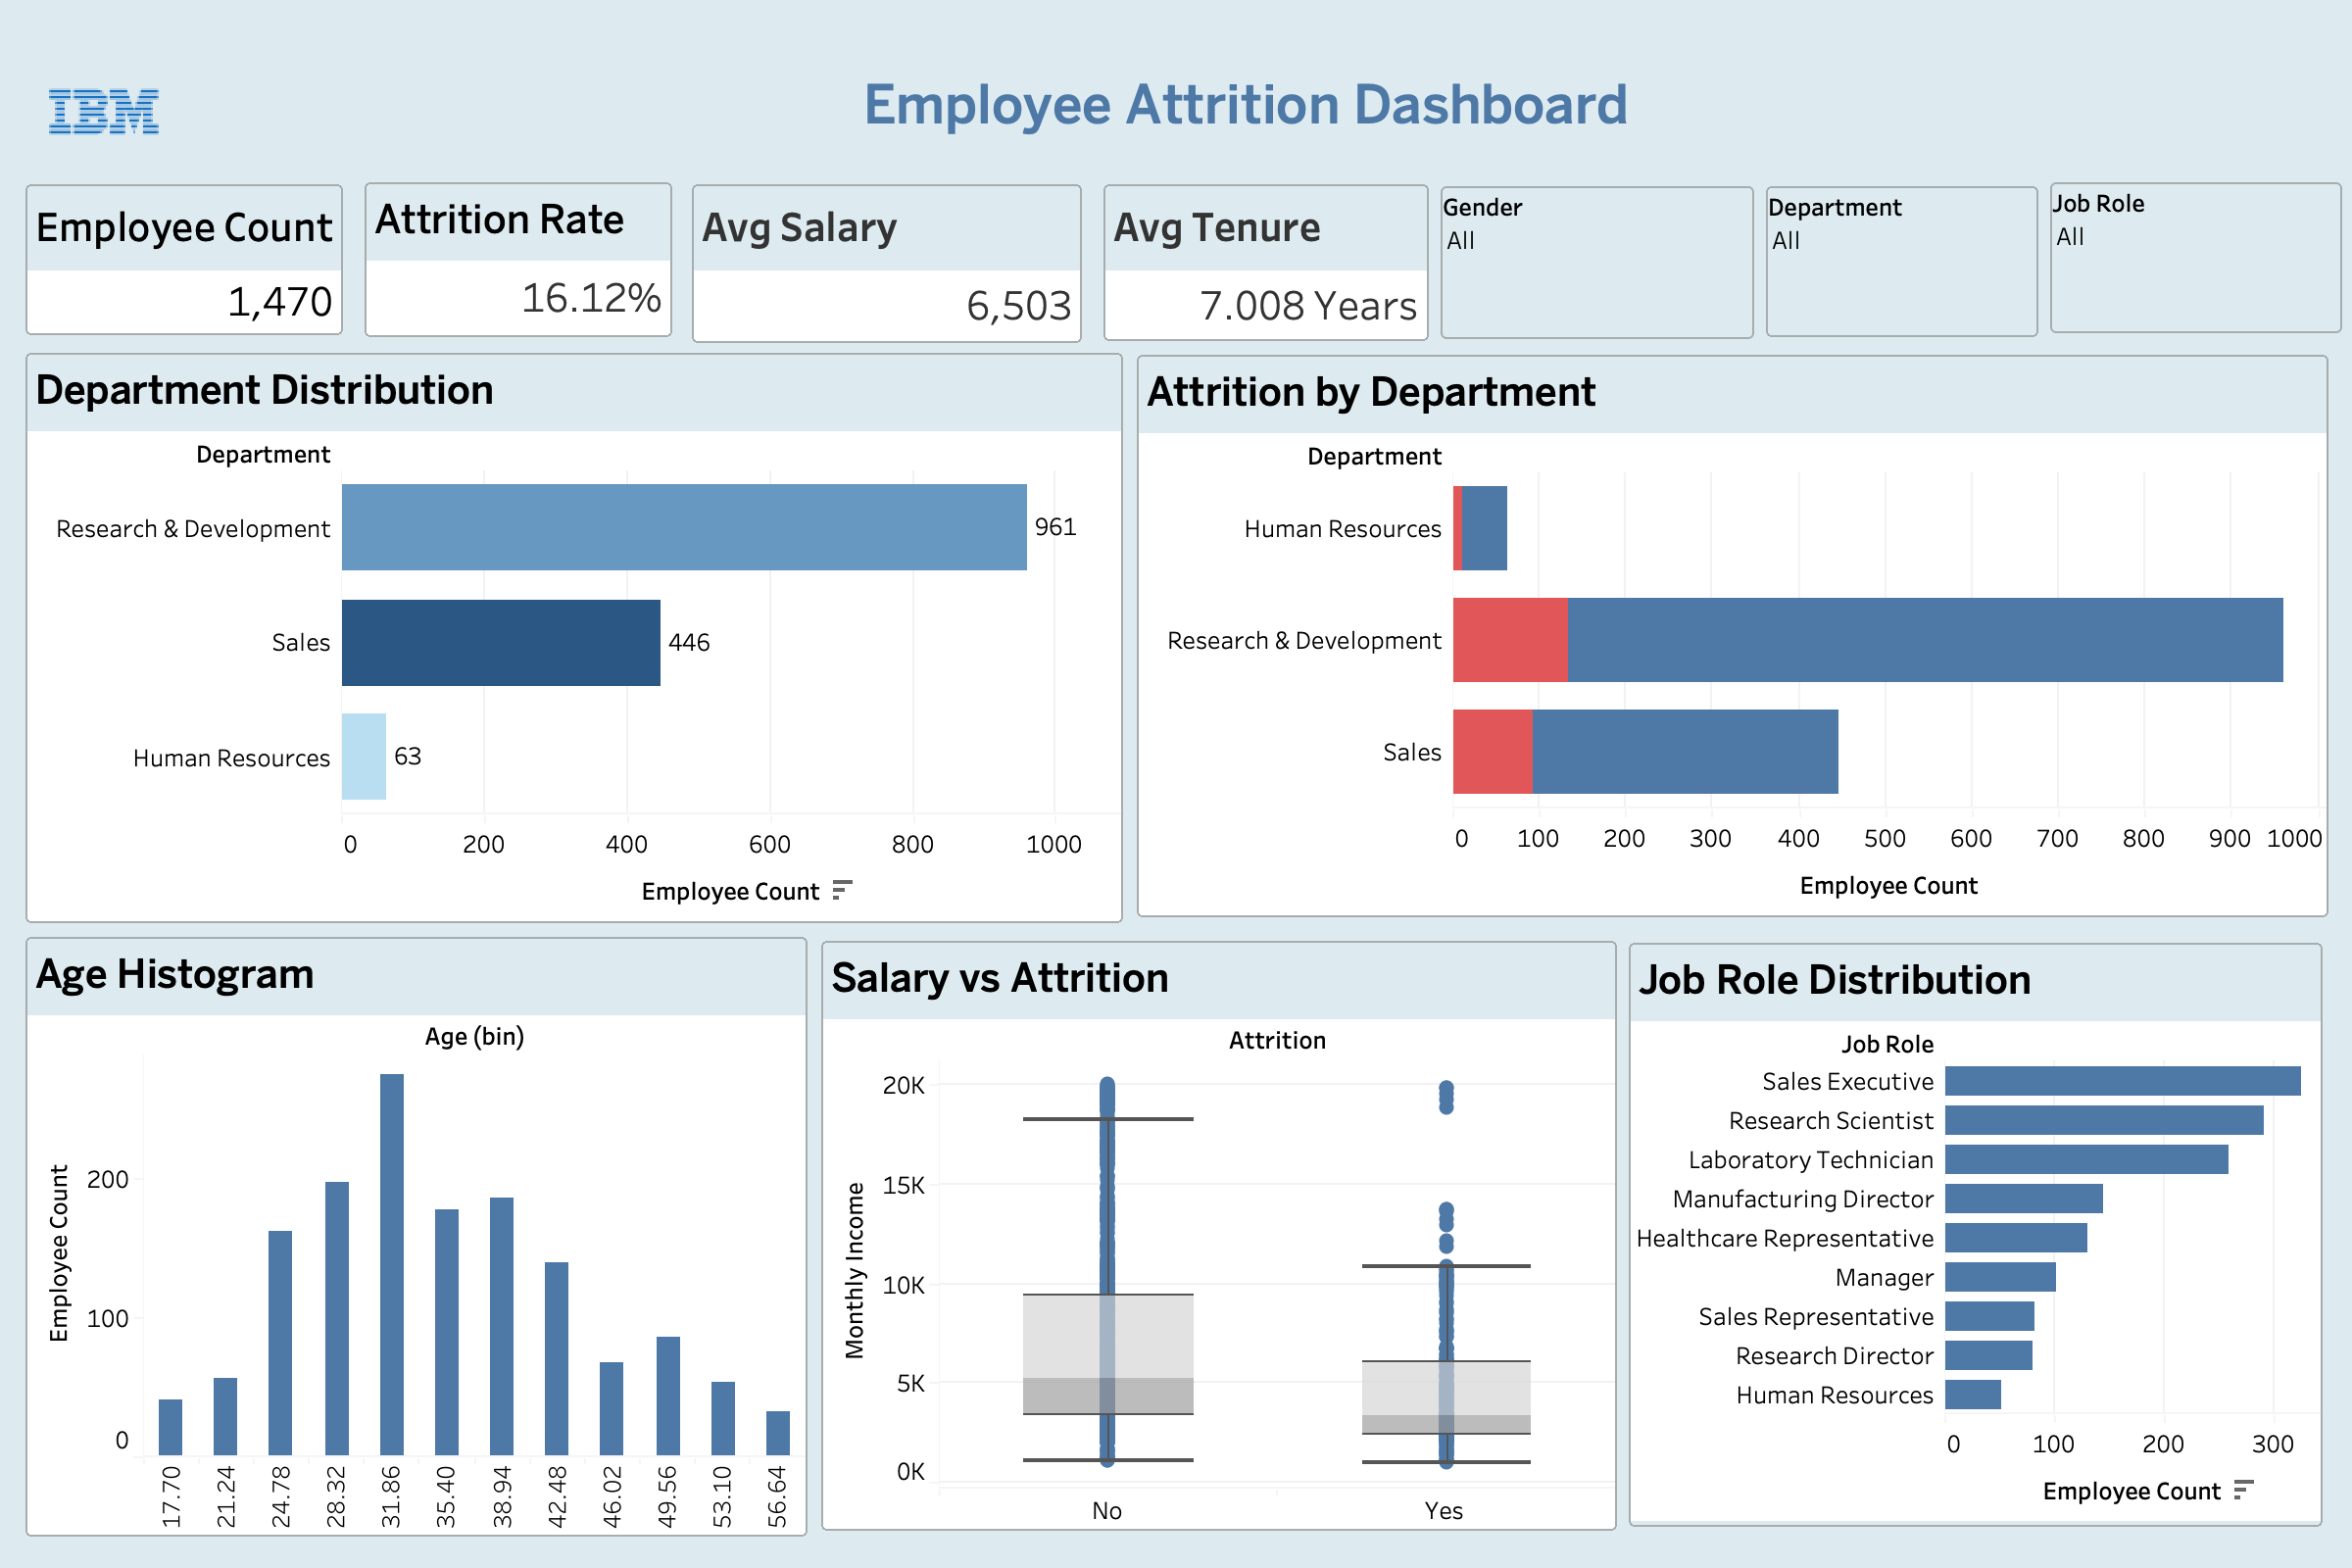

What the dashboard file says about the page in this screenshot:
{"tool":"tableau","page":{"name":"Dashboard 1","canvas":[1200,800],"ordinal":0},"visuals":[{"type":"image","param":"/Users/syeddarainqamar/Downloads/ibm-logo-18910.png","box":[12,25,1174,64]},{"type":"text","box":[331,33,610,42]},{"type":"worksheet","title":"Attrition Rate","mark":"Automatic","box":[186,93,157,79]},{"type":"filter","title":"Department Distribution","param":"[federated.15zcqny07ps8hw1gnrd3c0x3una7].[none:JobRole:nk]","box":[1046,93,149,77]},{"type":"worksheet","title":"Employee Count","mark":"Automatic","box":[13,94,162,77]},{"type":"worksheet","title":"Avg Salary","mark":"Automatic","box":[353,94,199,81]},{"type":"worksheet","title":"Avg Tenure","mark":"Automatic","box":[563,94,166,80]},{"type":"filter","title":"Department Distribution","param":"[federated.15zcqny07ps8hw1gnrd3c0x3una7].[none:Gender:nk]","box":[735,95,160,78]},{"type":"filter","title":"Department Distribution","param":"[federated.15zcqny07ps8hw1gnrd3c0x3una7].[none:Department:nk]","box":[901,95,139,77]},{"type":"worksheet","title":"Department Distribution","mark":"Bar","rows":["Department"],"cols":["Calculation_4011692683427841"],"box":[13,180,560,291]},{"type":"worksheet","title":"Attrition by Department","mark":"Automatic","rows":["Department"],"cols":["Calculation_4011692683427841"],"box":[580,181,608,287]},{"type":"worksheet","title":"Age Histogram","mark":"Bar","rows":["Calculation_4011692683427841"],"cols":["Age (bin)"],"box":[13,478,399,306]},{"type":"worksheet","title":"Salary vs Attrition","mark":"Circle","rows":["MonthlyIncome"],"cols":["Attrition"],"box":[419,480,406,301]},{"type":"worksheet","title":"Job Role Distribution","mark":"Automatic","rows":["JobRole"],"cols":["Calculation_4011692683427841"],"box":[831,481,354,298]}]}

Visuals, with their boxes in screenshot pixels (x1, y1, x2, y2), scaled from the page's 1200x800 canvas onto the 2352x1568 screenshot:
image: {"x1": 24, "y1": 49, "x2": 2325, "y2": 174}
text: {"x1": 649, "y1": 65, "x2": 1844, "y2": 147}
"Attrition Rate" worksheet: {"x1": 365, "y1": 182, "x2": 672, "y2": 337}
"Department Distribution" filter: {"x1": 2050, "y1": 182, "x2": 2342, "y2": 333}
"Employee Count" worksheet: {"x1": 25, "y1": 184, "x2": 343, "y2": 335}
"Avg Salary" worksheet: {"x1": 692, "y1": 184, "x2": 1082, "y2": 343}
"Avg Tenure" worksheet: {"x1": 1103, "y1": 184, "x2": 1429, "y2": 341}
"Department Distribution" filter: {"x1": 1441, "y1": 186, "x2": 1754, "y2": 339}
"Department Distribution" filter: {"x1": 1766, "y1": 186, "x2": 2038, "y2": 337}
"Department Distribution" worksheet (Bar marks): {"x1": 25, "y1": 353, "x2": 1123, "y2": 923}
"Attrition by Department" worksheet: {"x1": 1137, "y1": 355, "x2": 2328, "y2": 917}
"Age Histogram" worksheet (Bar marks): {"x1": 25, "y1": 937, "x2": 808, "y2": 1537}
"Salary vs Attrition" worksheet (Circle marks): {"x1": 821, "y1": 941, "x2": 1617, "y2": 1531}
"Job Role Distribution" worksheet: {"x1": 1629, "y1": 943, "x2": 2323, "y2": 1527}
